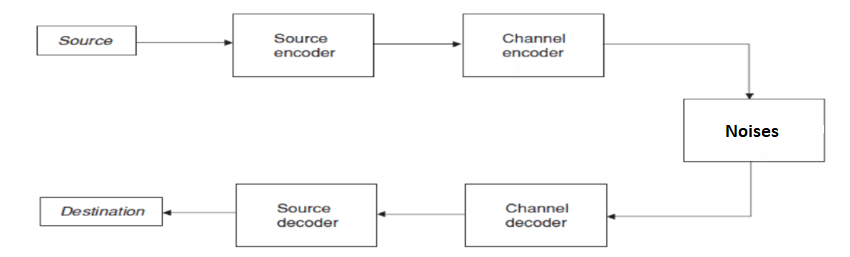arrow: (605, 160, 757, 223), (602, 39, 757, 100), (375, 208, 467, 220), (160, 205, 239, 218), (134, 38, 234, 48), (371, 39, 462, 48)
process: (680, 95, 829, 165), (234, 181, 380, 251), (230, 11, 378, 80), (462, 181, 610, 250), (459, 11, 609, 79), (35, 193, 165, 228), (34, 22, 139, 59)
text: (502, 200, 575, 231), (269, 31, 340, 61), (274, 200, 340, 231), (500, 31, 567, 61), (60, 201, 149, 217), (723, 121, 782, 140), (57, 33, 116, 48)
